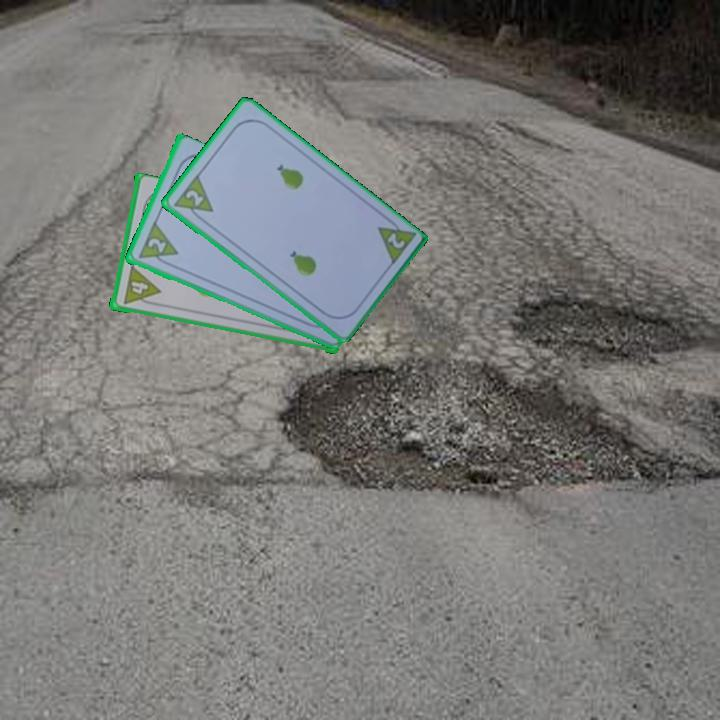2p: (169, 171, 216, 225), (383, 229, 407, 252), (144, 234, 169, 256)
4p: (126, 264, 162, 298)
